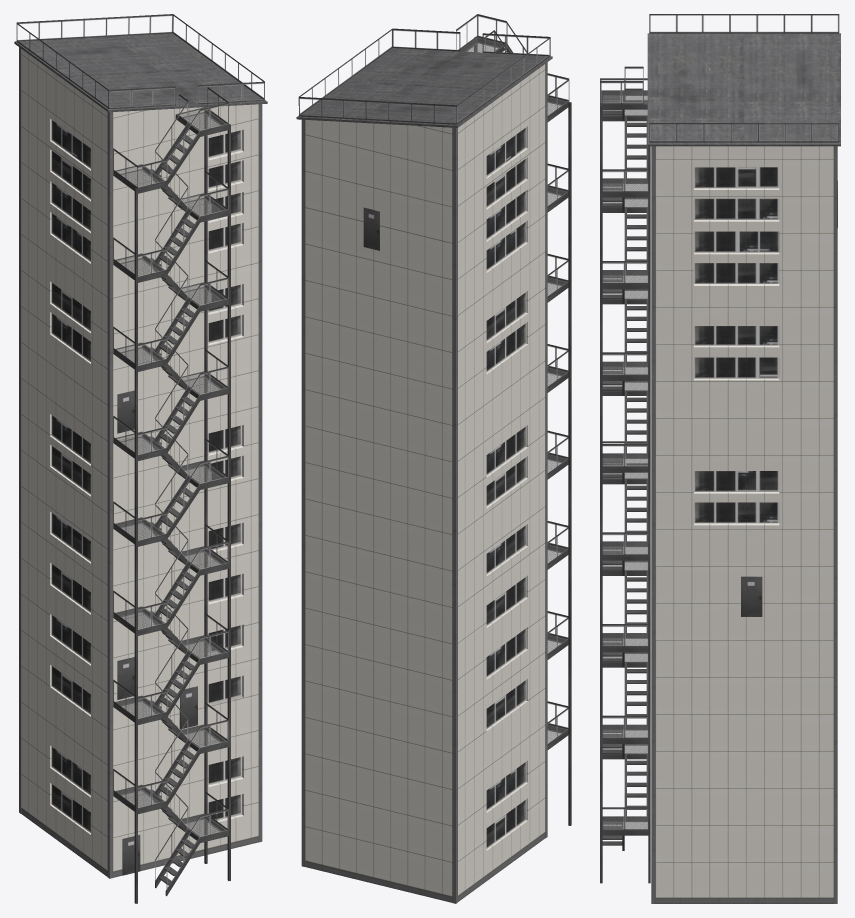
Rendered from plant-building48-2.glb.
3 views of the same model, side by side, from view 1: azimuth 30°, elevation 25°; view 2: azimuth 150°, elevation 25°; view 3: azimuth 270°, elevation 25° (orthographic). The views are drawn at different scales.
Parts seen in each view (by area): view 1: Object8932126; view 2: Object8932126; view 3: Object8932126.
Boxes of the visible parts, box(x1,y1,x2,y2) form: Object8932126: box(14, 14, 267, 903); Object8932126: box(296, 14, 571, 903); Object8932126: box(600, 14, 840, 903).
Size of the model in its own units: 8.99 by 42.93 by 11.43.
Materials: 1 (1 with a texture image).
